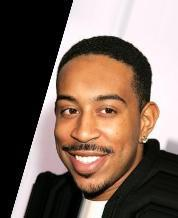face: (58, 95, 121, 175)
